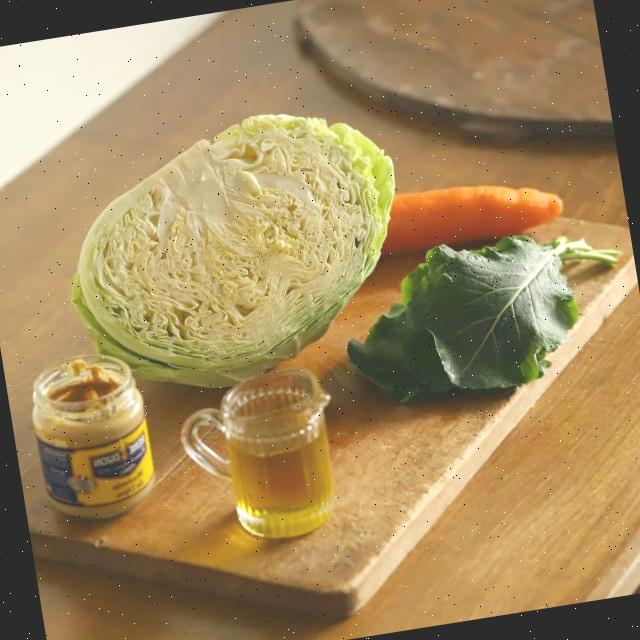cabbage: (65, 86, 407, 386)
